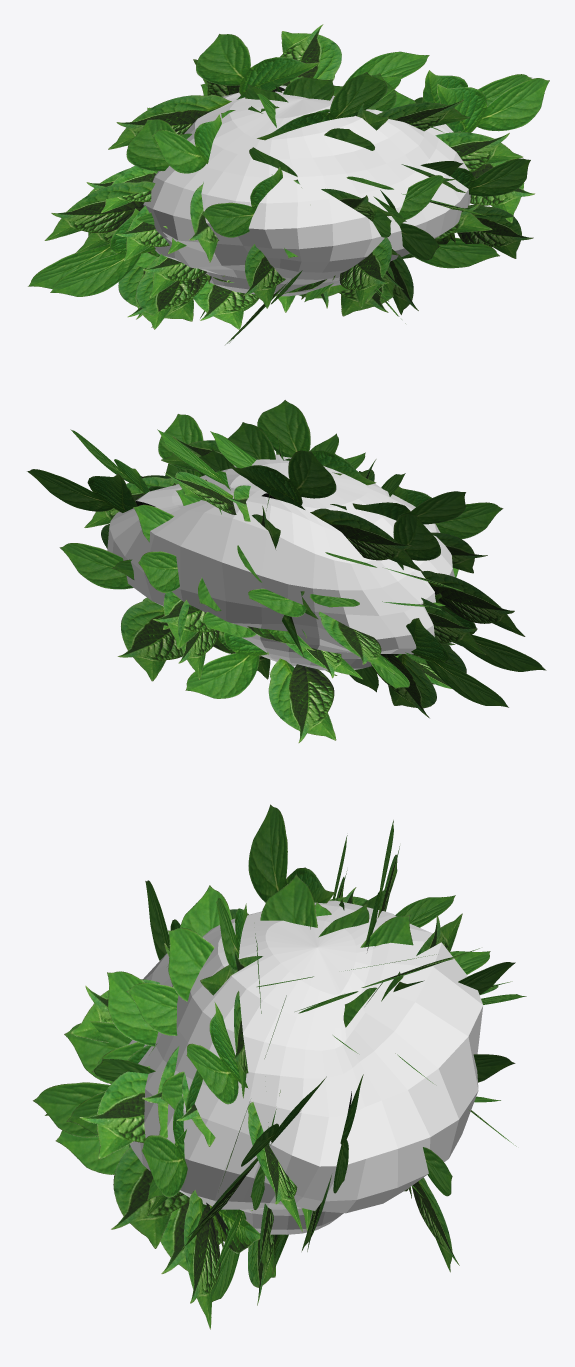
Rendered from куст 1,4ум.fbx.
The picture shows the model from 3 angles, top to bottom: view 1: azimuth 30°, elevation 25°; view 2: azimuth 150°, elevation 25°; view 3: azimuth 270°, elevation 25°; orthographic projection. The views are drawn at different scales.
Parts seen in each view (by area): view 1: Сфера|Плоскость|Dupli|, Сфера; view 2: Сфера|Плоскость|Dupli|, Сфера; view 3: Сфера, Сфера|Плоскость|Dupli|.
Boxes of the visible parts, x1,y1,x2,y2 form: Сфера|Плоскость|Dupli|: [28, 24, 549, 344]; Сфера: [143, 85, 470, 296]; Сфера|Плоскость|Dupli|: [27, 400, 546, 743]; Сфера: [107, 454, 454, 670]; Сфера: [129, 900, 483, 1234]; Сфера|Плоскость|Dupli|: [33, 804, 526, 1329].
Size of the model in its own units: 1236 by 681 by 766.
